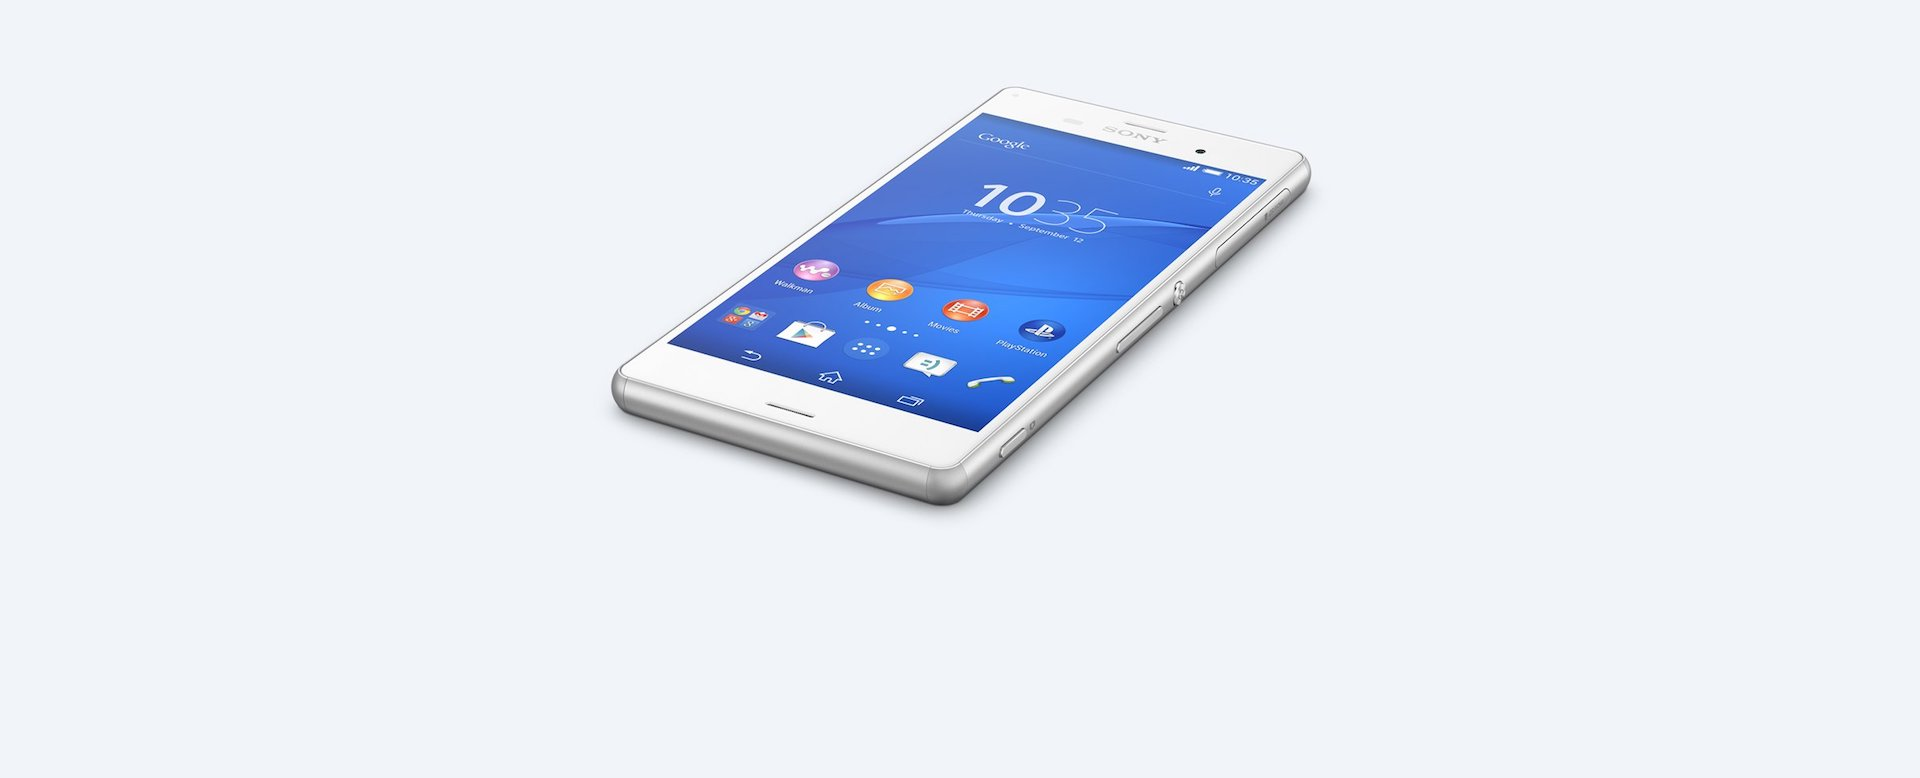smartphone: (607, 80, 1315, 508)
